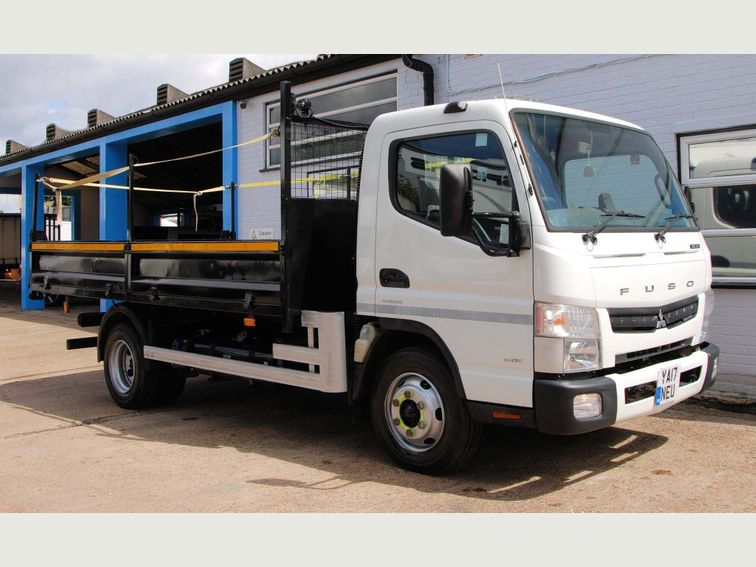Semi: (26, 97, 718, 471)
